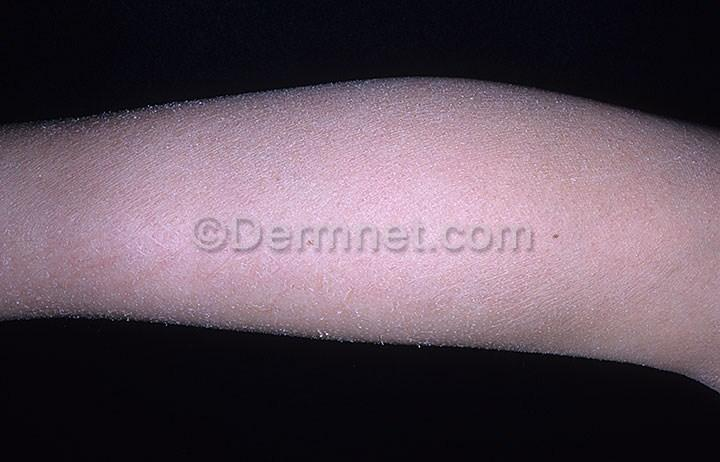xerosis 2: (0, 161, 631, 314), (0, 281, 719, 396), (0, 71, 719, 179)
